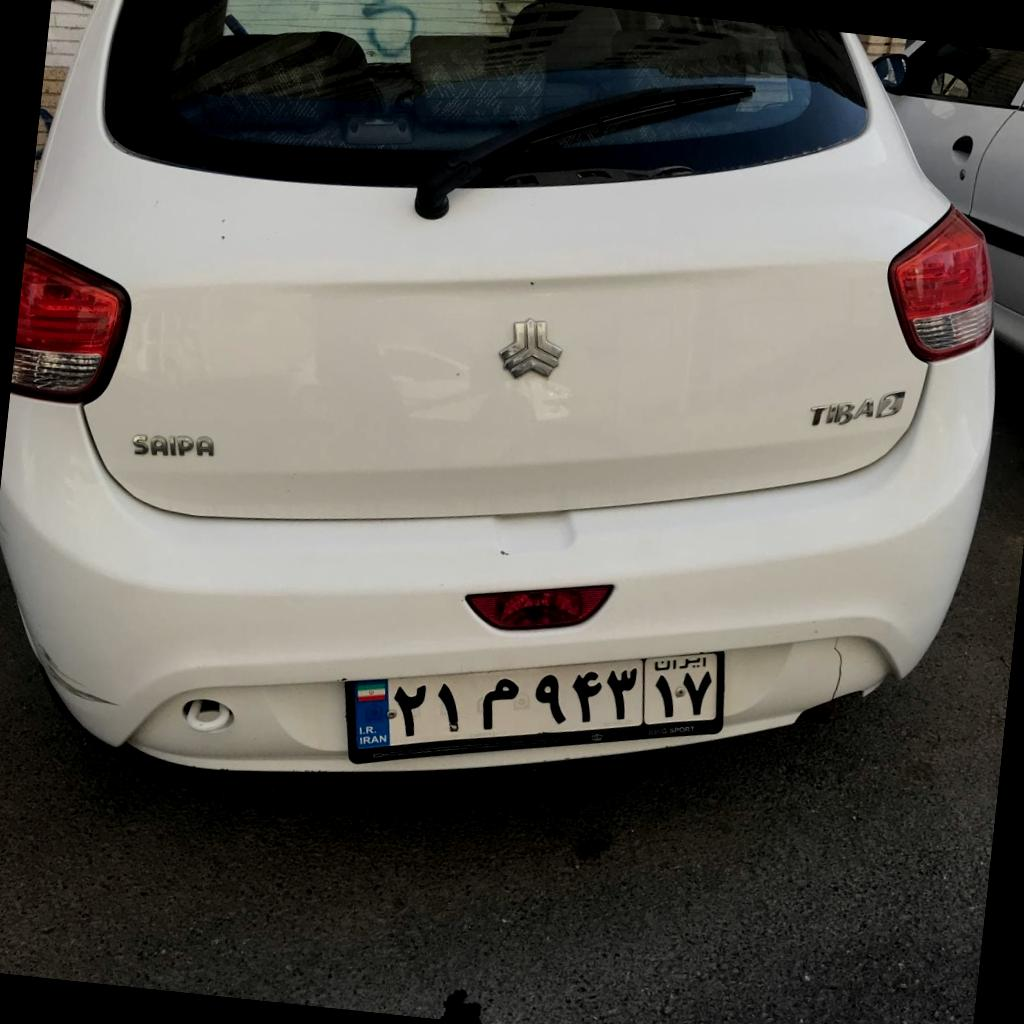Plates: (353, 651, 717, 749)
